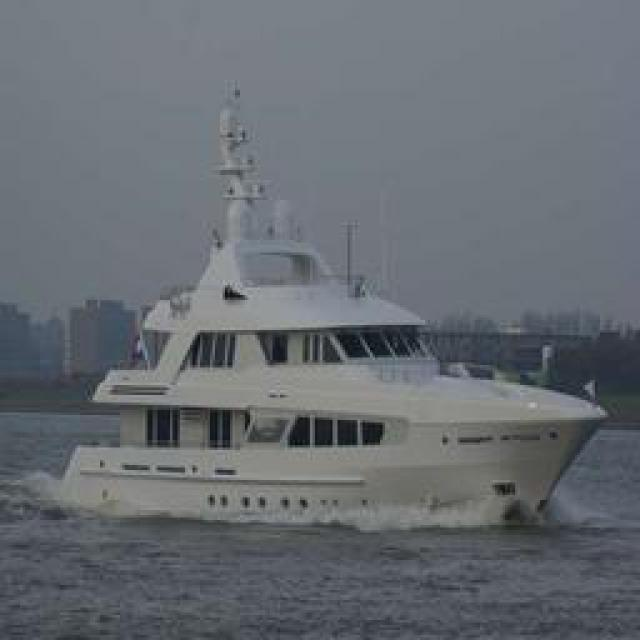Ship: (55, 210, 608, 530)
